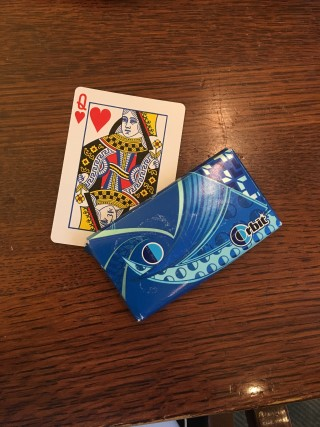QueenOfHearts: (50, 86, 185, 247)
